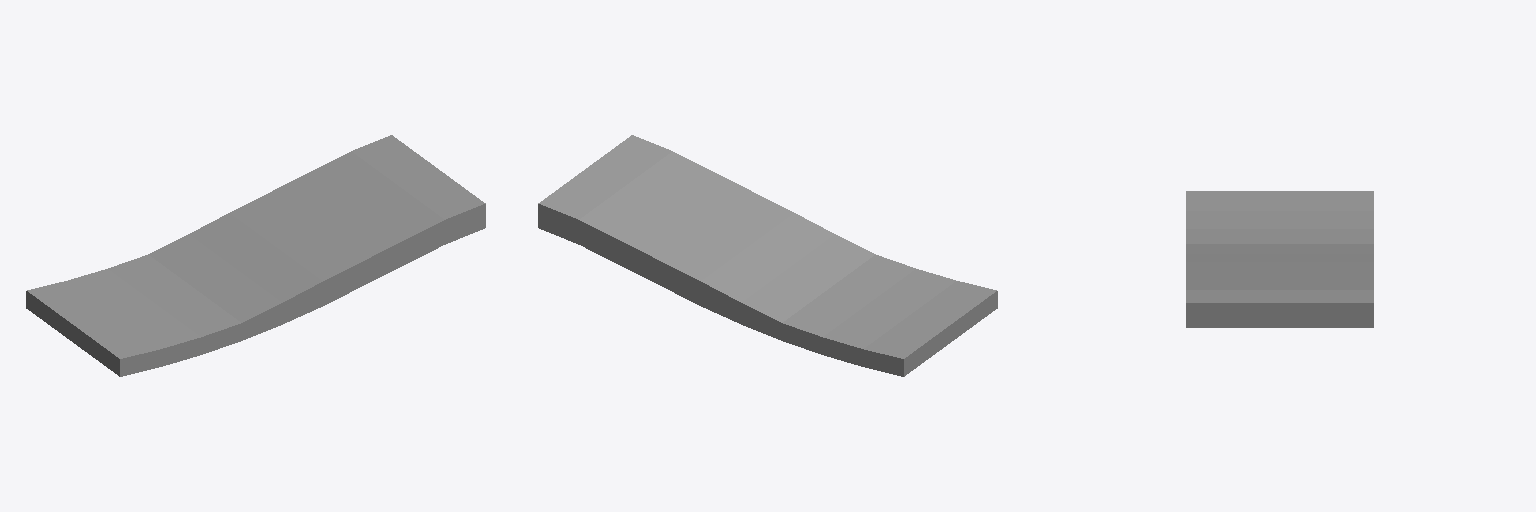
Rendered from flex_toe_not_inclined.obj.
3 views of the same model, side by side, from view 1: azimuth 30°, elevation 25°; view 2: azimuth 150°, elevation 25°; view 3: azimuth 270°, elevation 25° (orthographic).
Parts seen in each view (by area): view 1: ShapeIndexedFaceSet; view 2: ShapeIndexedFaceSet; view 3: ShapeIndexedFaceSet.
Boxes of the visible parts, box(x1,y1,x2,y2) form: ShapeIndexedFaceSet: box(26, 135, 485, 376); ShapeIndexedFaceSet: box(538, 135, 997, 376); ShapeIndexedFaceSet: box(1186, 191, 1373, 327).
Size of the model in its own units: 0.09 by 0.0199 by 0.04.